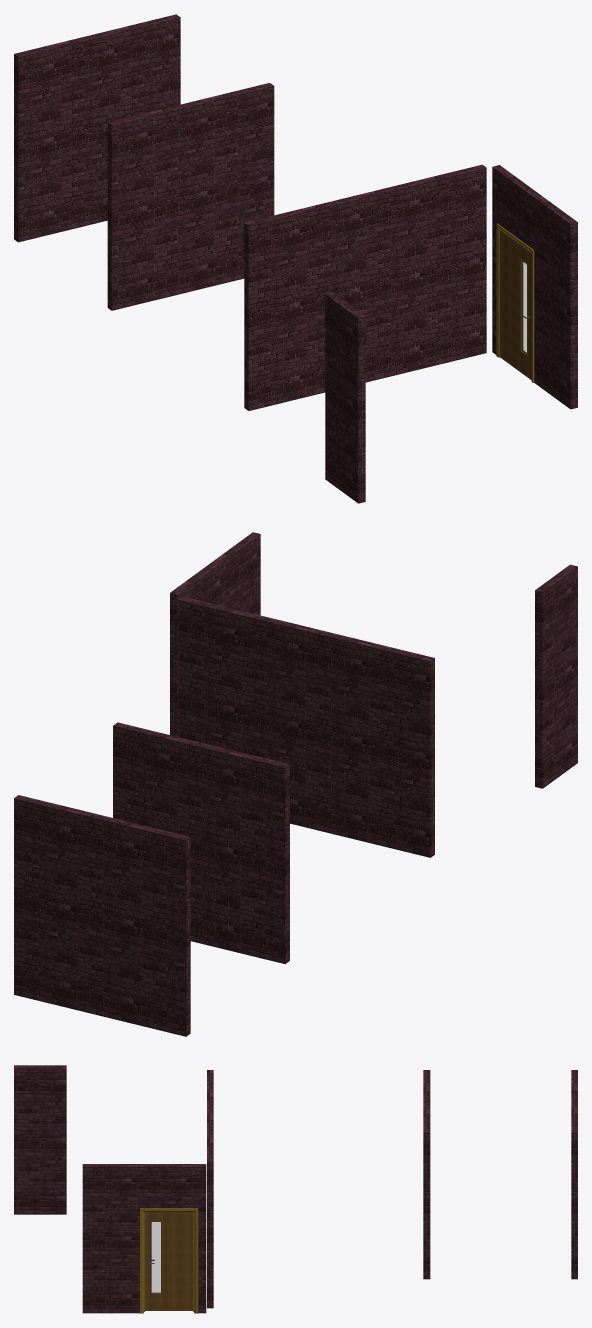
3 views of the same model, one above another, from view 1: azimuth 30°, elevation 25°; view 2: azimuth 150°, elevation 25°; view 3: azimuth 270°, elevation 25° (orthographic). The views are drawn at different scales.
Visible parts, largest first — view 1: Basic Wall Wall-Ext_215Bwk [353021]001, Basic Wall Wall-Ext_215Bwk [350749]001, Basic Wall Wall-Ext_215Bwk [350624]001, Basic Wall Wall-Ext_215Bwk [352985]001, Basic Wall Wall-Ext_215Bwk [351219]001, Doors_IntSgl_2 1010x2110mm [626004]001; view 2: Basic Wall Wall-Ext_215Bwk [353021]001, Basic Wall Wall-Ext_215Bwk [350624]001, Basic Wall Wall-Ext_215Bwk [350749]001, Basic Wall Wall-Ext_215Bwk [351219]001, Basic Wall Wall-Ext_215Bwk [352985]001; view 3: Basic Wall Wall-Ext_215Bwk [352985]001, Basic Wall Wall-Ext_215Bwk [351219]001, Doors_IntSgl_2 1010x2110mm [626004]001, Basic Wall Wall-Ext_215Bwk [350749]001, Basic Wall Wall-Ext_215Bwk [353021]001, Basic Wall Wall-Ext_215Bwk [350624]001.
Boxes of the visible parts, bbox=[...] form: Basic Wall Wall-Ext_215Bwk [353021]001: bbox=[244, 164, 486, 410]; Basic Wall Wall-Ext_215Bwk [350749]001: bbox=[107, 83, 274, 310]; Basic Wall Wall-Ext_215Bwk [350624]001: bbox=[14, 14, 180, 242]; Basic Wall Wall-Ext_215Bwk [352985]001: bbox=[492, 165, 577, 409]; Basic Wall Wall-Ext_215Bwk [351219]001: bbox=[325, 292, 365, 503]; Doors_IntSgl_2 1010x2110mm [626004]001: bbox=[496, 223, 534, 382]; Basic Wall Wall-Ext_215Bwk [353021]001: bbox=[178, 596, 434, 857]; Basic Wall Wall-Ext_215Bwk [350624]001: bbox=[14, 795, 190, 1036]; Basic Wall Wall-Ext_215Bwk [350749]001: bbox=[113, 722, 289, 964]; Basic Wall Wall-Ext_215Bwk [351219]001: bbox=[535, 564, 577, 788]; Basic Wall Wall-Ext_215Bwk [352985]001: bbox=[170, 532, 260, 736]; Basic Wall Wall-Ext_215Bwk [352985]001: bbox=[82, 1164, 206, 1313]; Basic Wall Wall-Ext_215Bwk [351219]001: bbox=[14, 1065, 66, 1214]; Doors_IntSgl_2 1010x2110mm [626004]001: bbox=[140, 1208, 198, 1313]; Basic Wall Wall-Ext_215Bwk [350749]001: bbox=[423, 1070, 430, 1279]; Basic Wall Wall-Ext_215Bwk [353021]001: bbox=[207, 1070, 213, 1308]; Basic Wall Wall-Ext_215Bwk [350624]001: bbox=[571, 1070, 577, 1279].
Bounding box in the file's own units: 4.47 × 3 × 10.47.
Materials: 6 (4 with a texture image).
